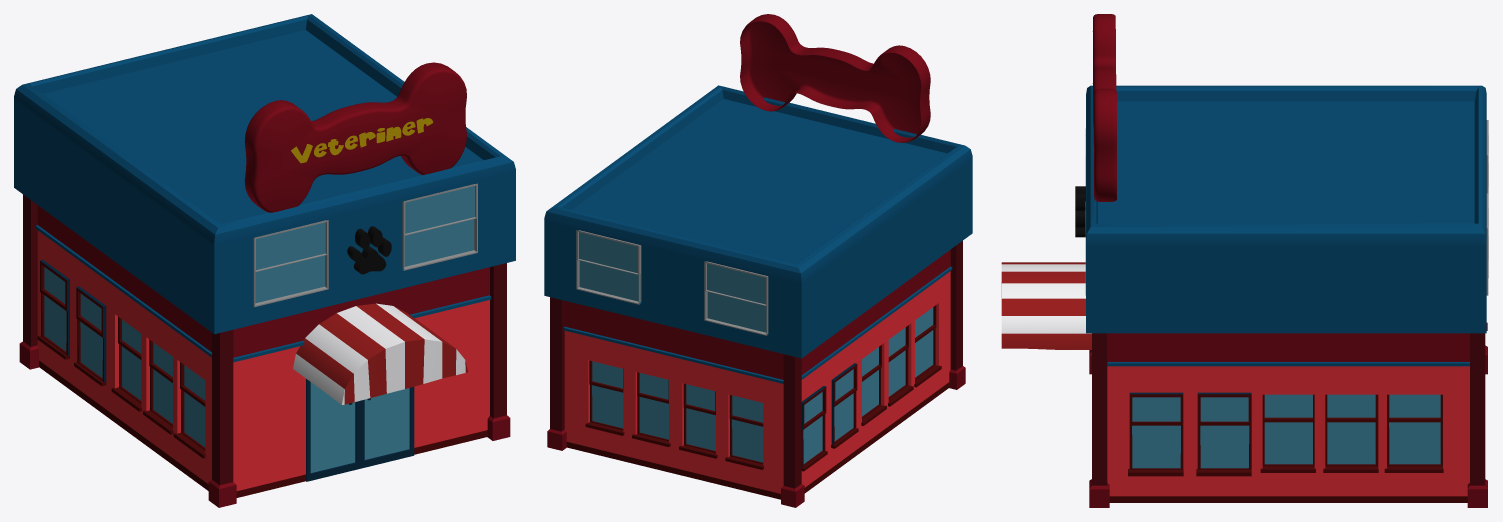
The model's file is veteriner (1).FBX.
The picture shows the model from 3 angles, left to right: view 1: azimuth 30°, elevation 25°; view 2: azimuth 150°, elevation 25°; view 3: azimuth 270°, elevation 25°; orthographic projection. The views are drawn at different scales.
Visible parts, largest first — view 1: Box001, Cube001, Rectangle0, Cylinder001, SlidingWindow002, SlidingWindow001, TextPlus004, TextPlus001; view 2: Box001, Cube001, Rectangle0, SlidingWindow003, SlidingWindow004; view 3: Box001, Cube001, Cylinder001, Rectangle0, TextPlus001.
Part boxes in pixels (<box>): Box001: <box>14,14,515,334</box>; Cube001: <box>19,194,510,507</box>; Rectangle0: <box>244,62,466,212</box>; Cylinder001: <box>293,303,468,404</box>; SlidingWindow002: <box>402,183,477,270</box>; SlidingWindow001: <box>253,220,328,307</box>; TextPlus004: <box>291,118,433,163</box>; TextPlus001: <box>347,226,391,274</box>; Box001: <box>544,85,972,358</box>; Cube001: <box>547,241,965,507</box>; Rectangle0: <box>740,14,930,142</box>; SlidingWindow003: <box>576,230,641,304</box>; SlidingWindow004: <box>704,261,768,335</box>; Box001: <box>1086,85,1486,333</box>; Cube001: <box>1089,322,1487,507</box>; Cylinder001: <box>1001,262,1091,349</box>; Rectangle0: <box>1092,14,1116,201</box>; TextPlus001: <box>1075,186,1085,237</box>.
Size of the model in its own units: 535 by 647 by 748.
